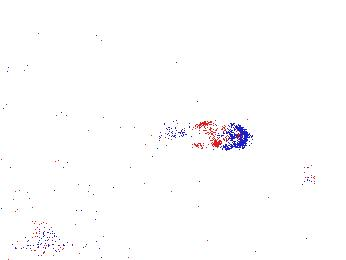X-ray fish: (172, 117, 252, 151), (295, 158, 318, 190)
red belly glassfish: (244, 142, 278, 155)
